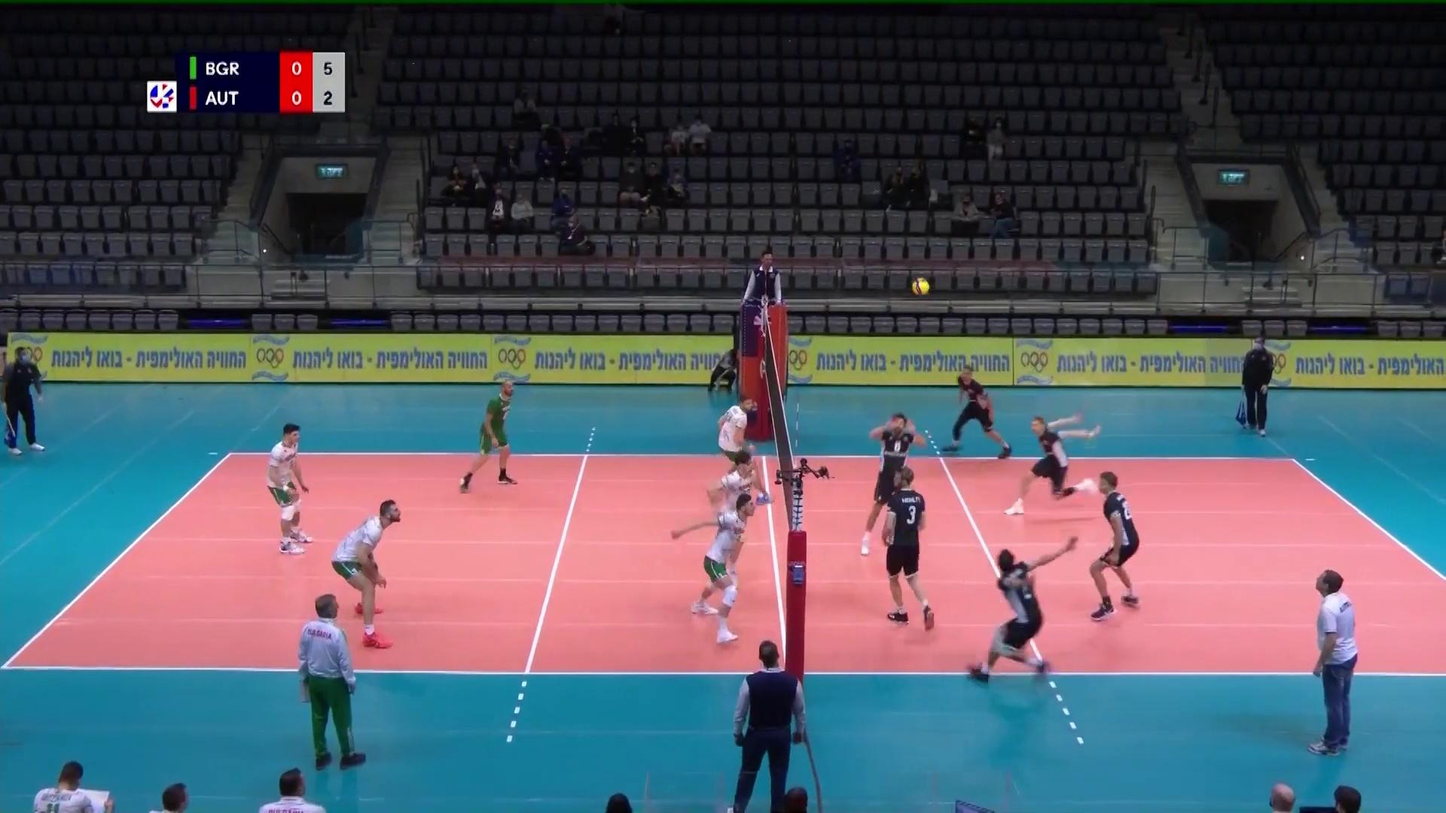ball: (908, 275, 935, 300)
